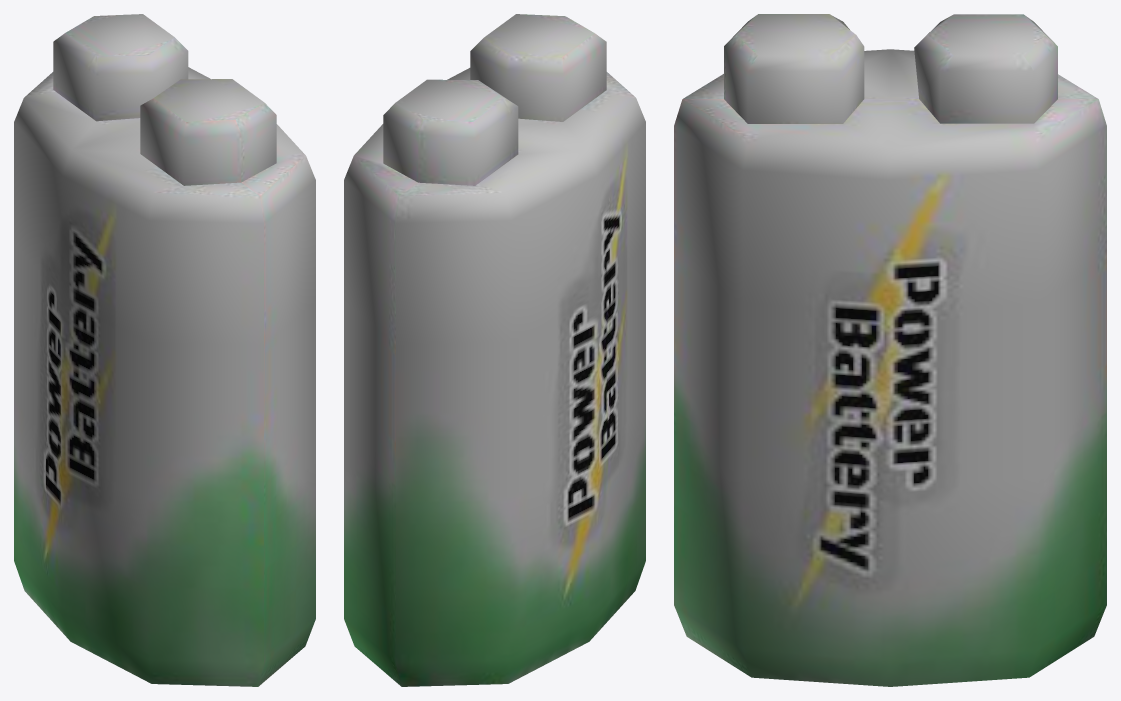
Rendered from Battery.fbx.
The picture shows the model from 3 angles, left to right: view 1: azimuth 30°, elevation 25°; view 2: azimuth 150°, elevation 25°; view 3: azimuth 270°, elevation 25°; orthographic projection. The views are drawn at different scales.
Parts seen in each view (by area): view 1: Cube; view 2: Cube; view 3: Cube.
Part boxes in pixels (box(x1,y1,x2,y2)): Cube: box(14, 14, 315, 686); Cube: box(344, 14, 645, 686); Cube: box(674, 14, 1106, 686).
Size of the model in its own units: 162 by 416 by 271.
